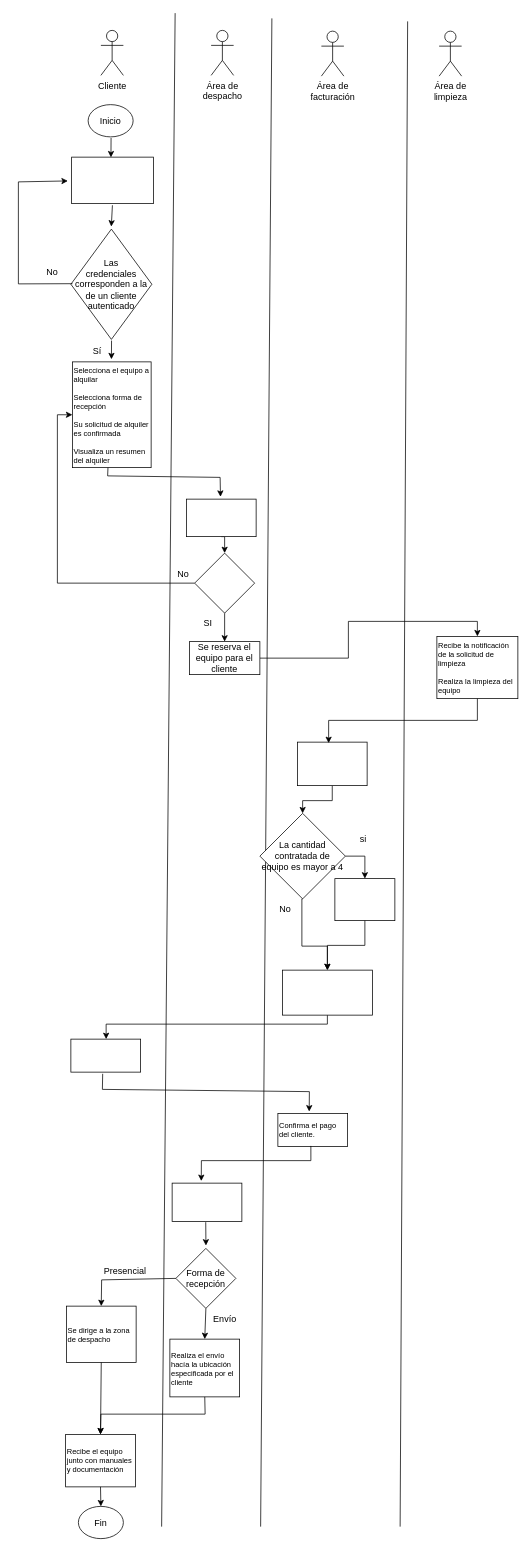
Image size: 531x1552. Some labels were removed from this diagram. Each missing label, with the box of its shape:
Calcula el precio del alquiler y aplica tarifas: (297, 741, 367, 786)
Coordina la entrega del equipo con el cliente: (171, 1182, 242, 1221)
El equipo esta disponible: (194, 552, 255, 613)
Ingresa el usuario y la contraseña Sus credenciales son validadas: (71, 156, 153, 204)
Realiza el pago del alquiler: (70, 1038, 141, 1072)
Se aplica el descuento: (334, 878, 395, 921)
Se genera la factura del alquiler y la envia al cliente por correo electronico: (282, 969, 372, 1015)
Verifica el estado del equipo: (186, 498, 256, 537)
